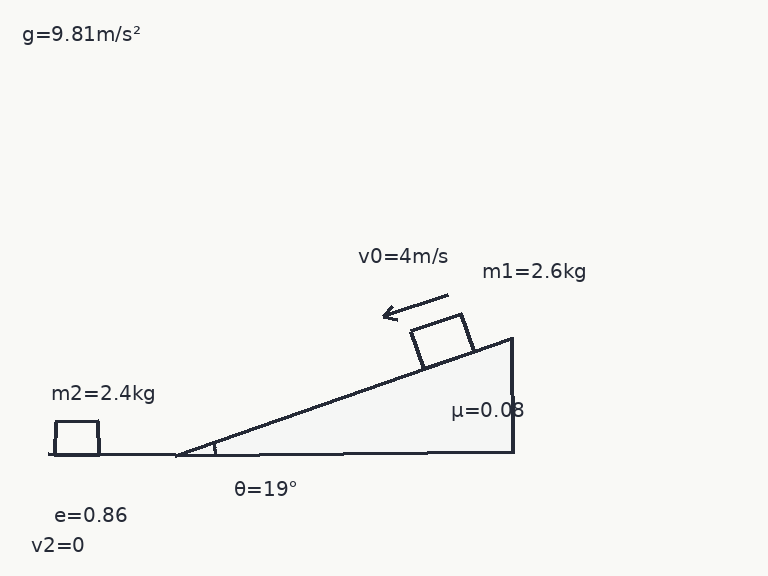block: (409, 312, 476, 371), (52, 420, 100, 456)
ramp: (173, 336, 514, 456)
